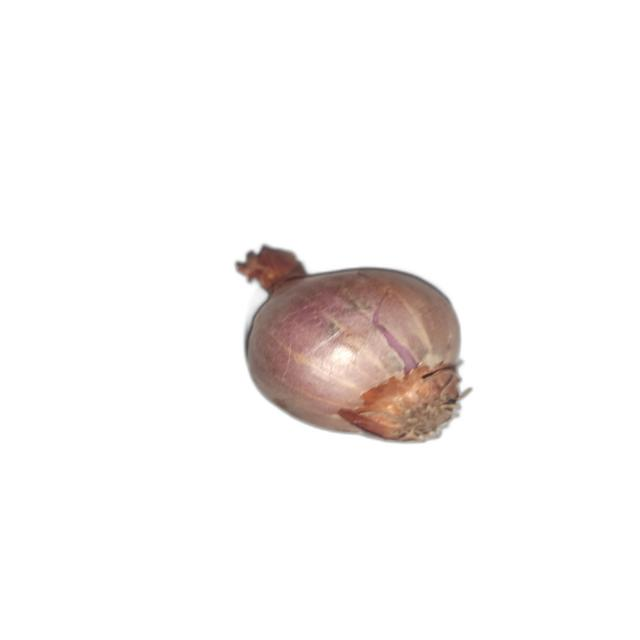onion: (233, 245, 477, 445)
